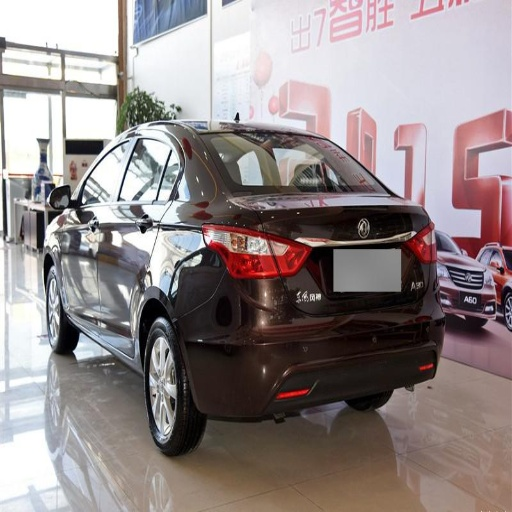back_bumper: (181, 265, 443, 419)
back_glass: (206, 132, 381, 191)
back_left_door: (101, 135, 171, 336)
tailgate: (237, 188, 419, 312)
